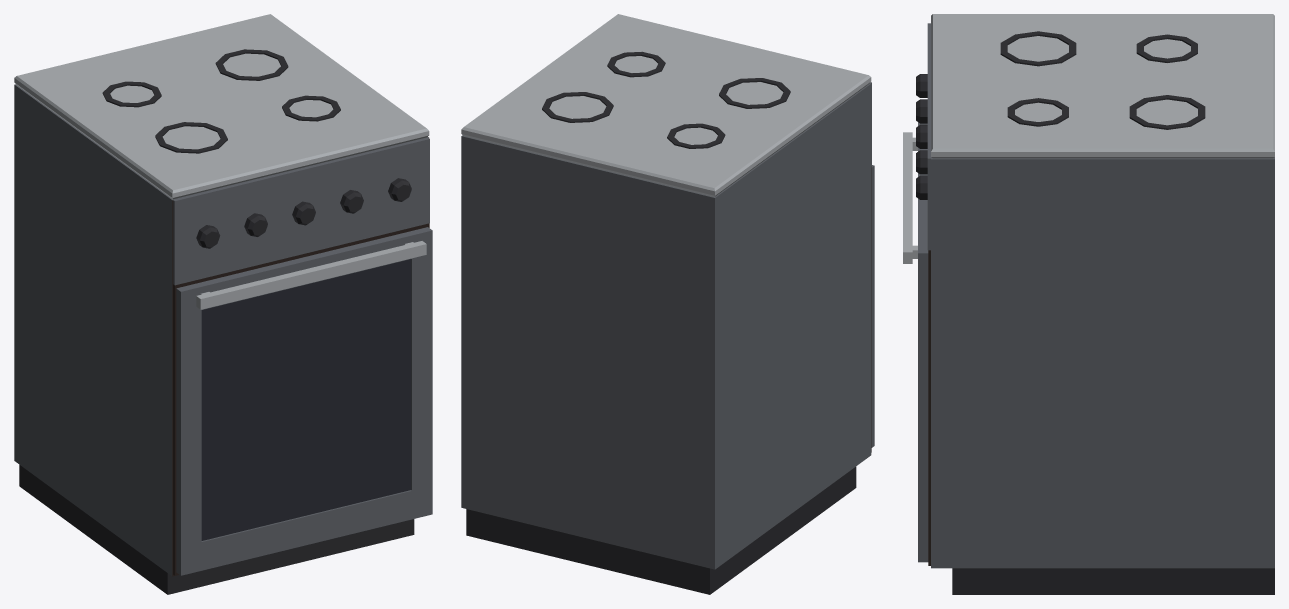
The model's file is FN_Appliance_Cooker.obj.
3 views of the same model, side by side, from view 1: azimuth 30°, elevation 25°; view 2: azimuth 150°, elevation 25°; view 3: azimuth 270°, elevation 25° (orthographic). The views are drawn at different scales.
Visible parts, largest first — view 1: FN_Appliance_Cooker; view 2: FN_Appliance_Cooker; view 3: FN_Appliance_Cooker.
Boxes of the visible parts, x1,y1,x2,y2 form: FN_Appliance_Cooker: (14,14,432,594); FN_Appliance_Cooker: (461,14,874,594); FN_Appliance_Cooker: (903,14,1274,594).
Bounding box in the file's own units: 0.6 × 0.923 × 0.692.
1 material, 1 textured.
